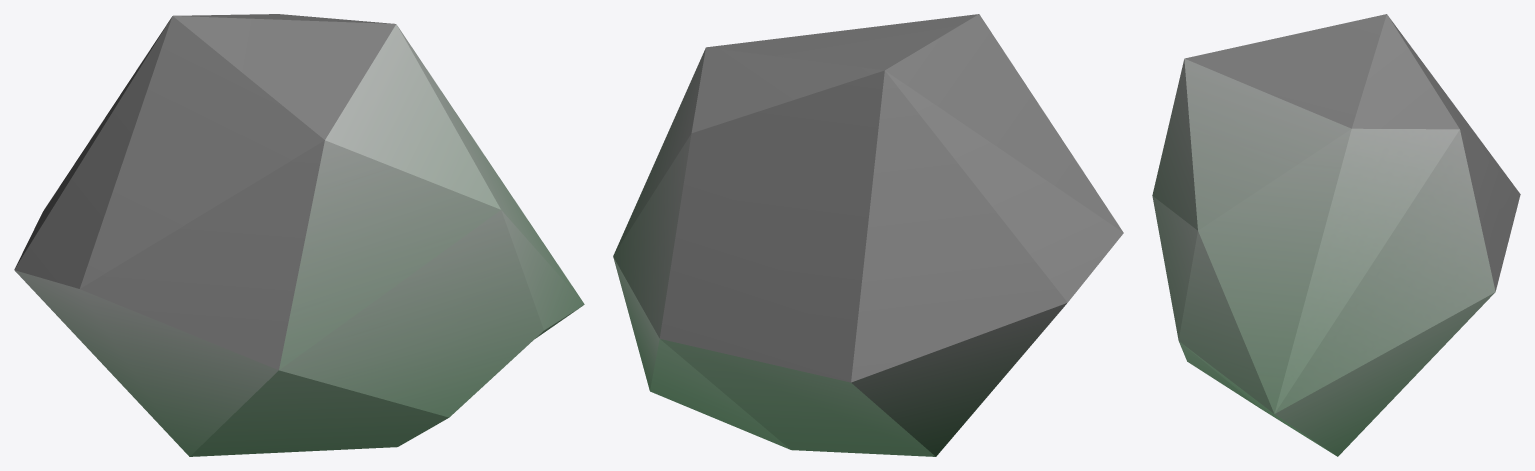
Rendered from Rock_Medium_01_Mossy.fbx.
The picture shows the model from 3 angles, left to right: view 1: azimuth 30°, elevation 25°; view 2: azimuth 150°, elevation 25°; view 3: azimuth 270°, elevation 25°; orthographic projection. The views are drawn at different scales.
Visible parts, largest first — view 1: Rock_Medium_Mossy; view 2: Rock_Medium_Mossy; view 3: Rock_Medium_Mossy.
Boxes of the visible parts, left/top/right/bottom form: Rock_Medium_Mossy: left=14, top=14, right=584, bottom=456; Rock_Medium_Mossy: left=613, top=14, right=1123, bottom=456; Rock_Medium_Mossy: left=1152, top=14, right=1520, bottom=456.
Size of the model in its own units: 0.6402 by 0.4889 by 0.4852.
